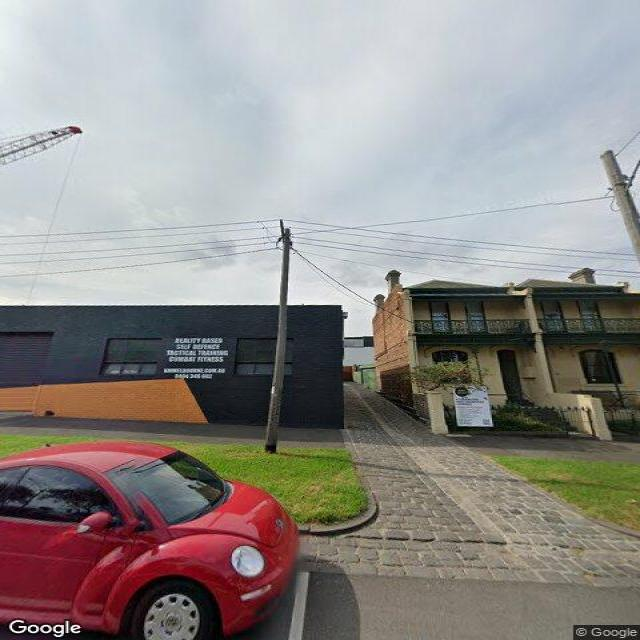crossarm: (279, 219, 294, 249)
timber-pole: (262, 228, 292, 453)
